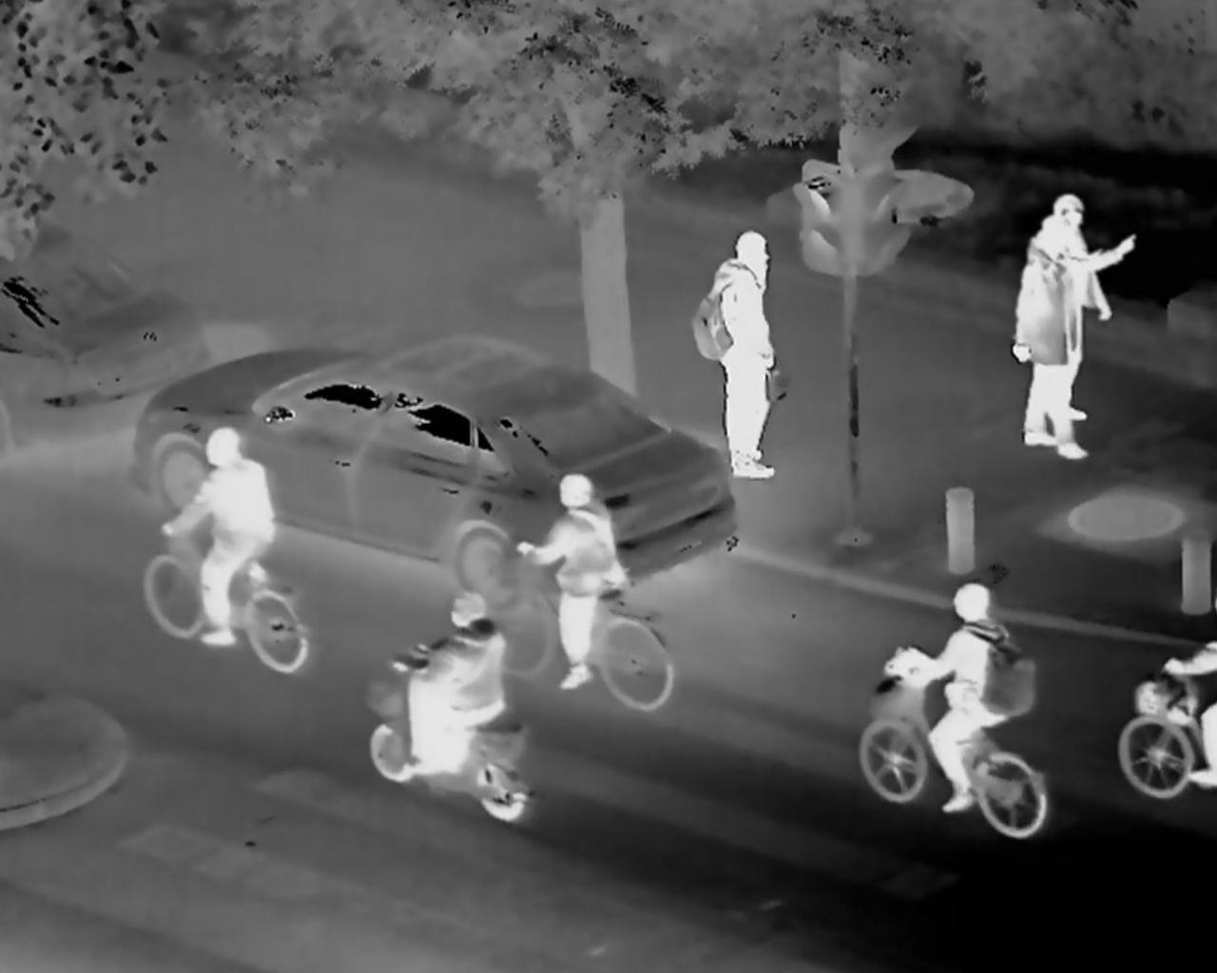person: (885, 583, 1033, 822), (1004, 187, 1116, 462), (160, 430, 283, 656), (695, 230, 802, 481), (517, 471, 635, 689), (396, 591, 512, 785), (1166, 618, 1217, 792)
